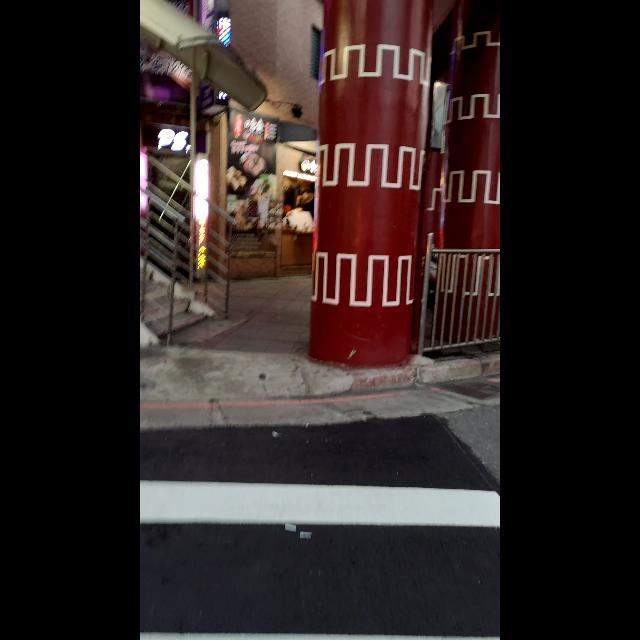sidewalk: (140, 467, 500, 640)
